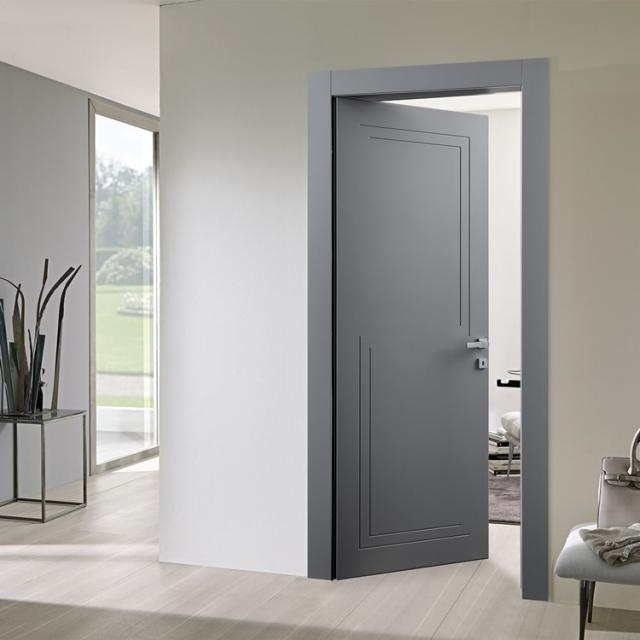open: (319, 83, 546, 605)
